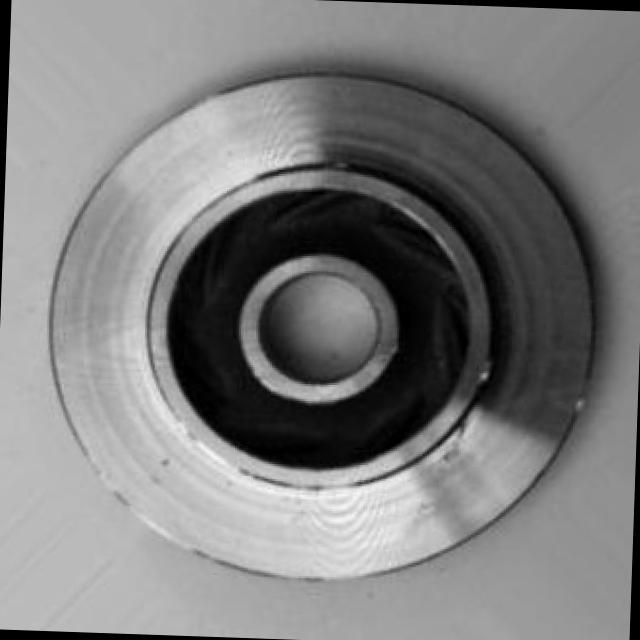Defect: (438, 404, 486, 450)
